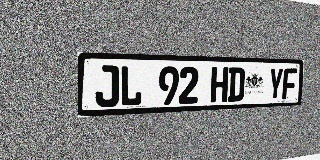2: (179, 66, 199, 104)
9: (159, 66, 179, 105)
D: (228, 67, 245, 102)
F: (282, 68, 297, 100)
H: (210, 67, 229, 103)
J: (95, 65, 119, 108)
L: (120, 65, 142, 107)
Y: (268, 68, 284, 100)
